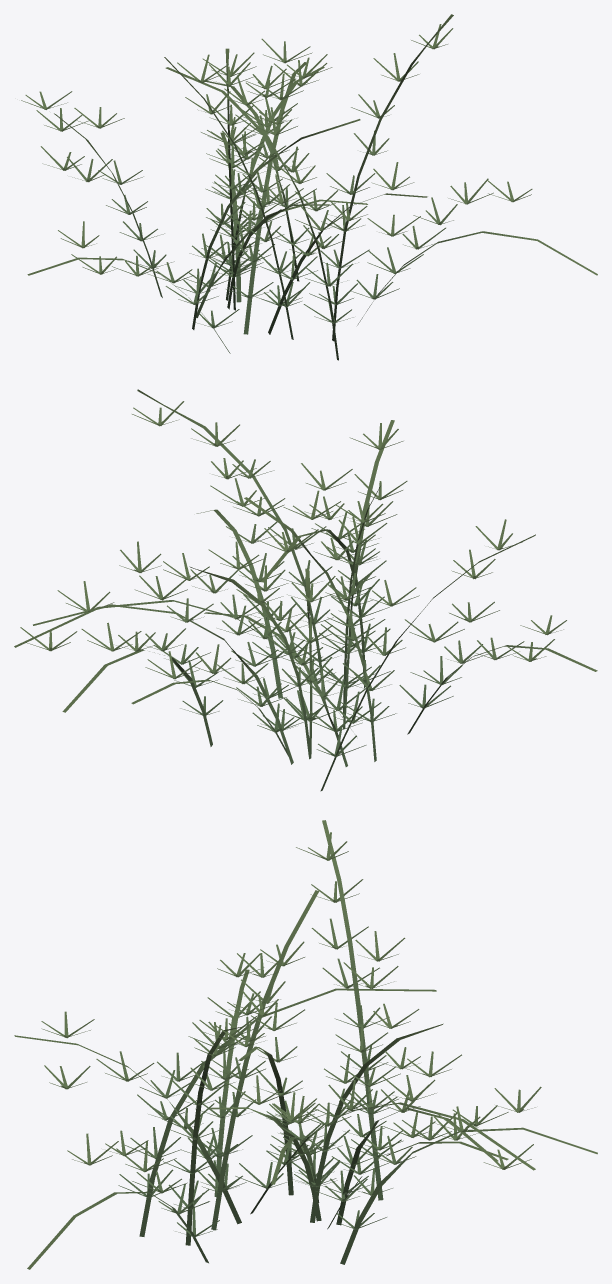
The model's file is chara_0.glb.
The picture shows the model from 3 angles, top to bottom: view 1: azimuth 30°, elevation 25°; view 2: azimuth 150°, elevation 25°; view 3: azimuth 270°, elevation 25°; orthographic projection. The views are drawn at different scales.
Parts seen in each view (by area): view 1: chara_0; view 2: chara_0; view 3: chara_0.
Boxes of the visible parts, x1,y1,x2,y2 form: chara_0: [21, 14, 597, 360]; chara_0: [14, 389, 597, 791]; chara_0: [14, 820, 597, 1269].
Size of the model in its own units: 0.4826 by 0.2655 by 0.469.
